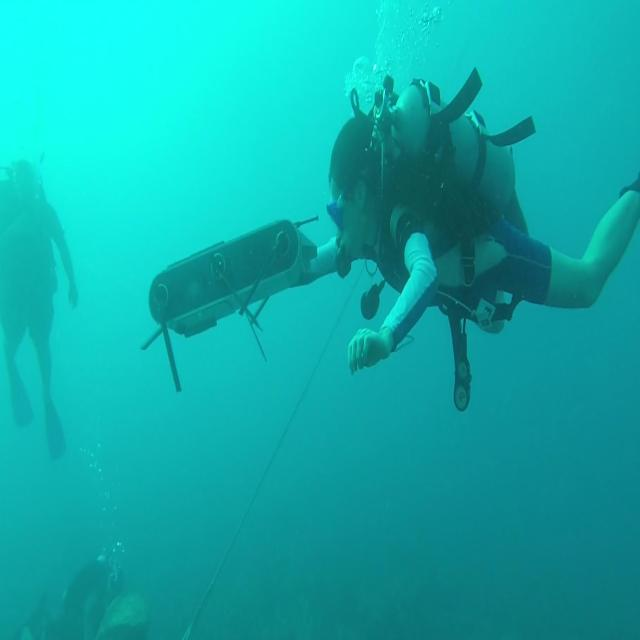human: (325, 69, 640, 412), (0, 154, 78, 459)
